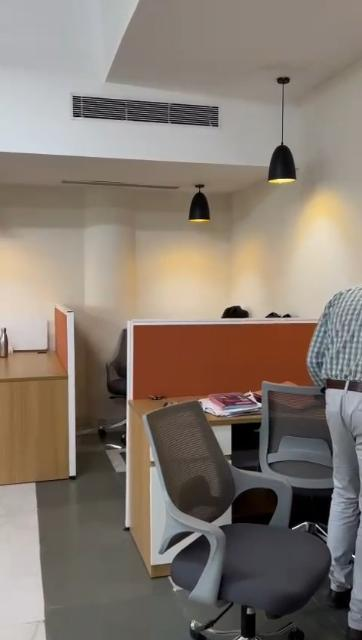floor: (0, 484, 128, 640)
moving-obj: (282, 268, 362, 602)
object: (147, 408, 301, 640), (255, 364, 323, 488), (0, 326, 12, 362)
wall: (191, 58, 362, 303), (4, 190, 188, 312)
